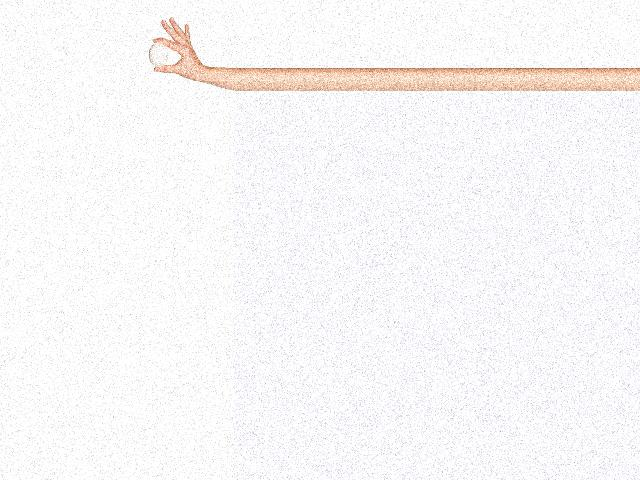egg: (148, 42, 167, 67)
